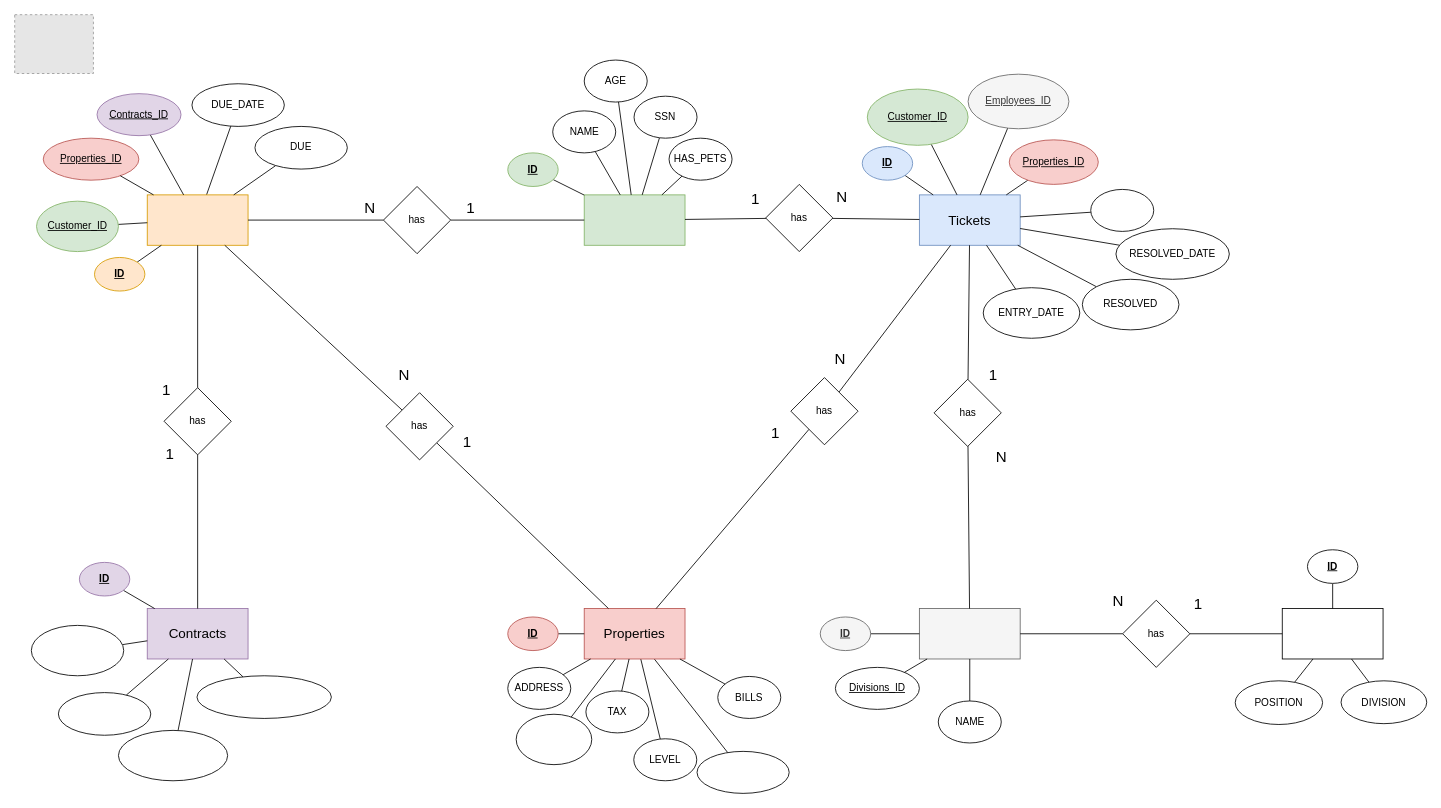
The diagram is 1441 pixels wide and 808 high, and some of its shapes have lost their labels. Grey dashed boxes stand in for pictures. The shapes that lost their labels are listed below. From the top down, each one's centre as x and y in pixels, then its label:
At point 197,219: "Rentals".
At point 634,219: "Customer".
At point 1122,210: "ISSUE".
At point 77,650: "ISSUED_DATE".
At point 969,633: "Employees".
At point 1332,633: "Divisions".
At point 104,713: "MONTHLY".
At point 263,696: "SECURITY_DEPOSIT".
At point 173,755: "EXPRESSION_DATE".
At point 553,739: "BUILD_YEAR".
At point 742,772: "ALLOWED_PETS".
